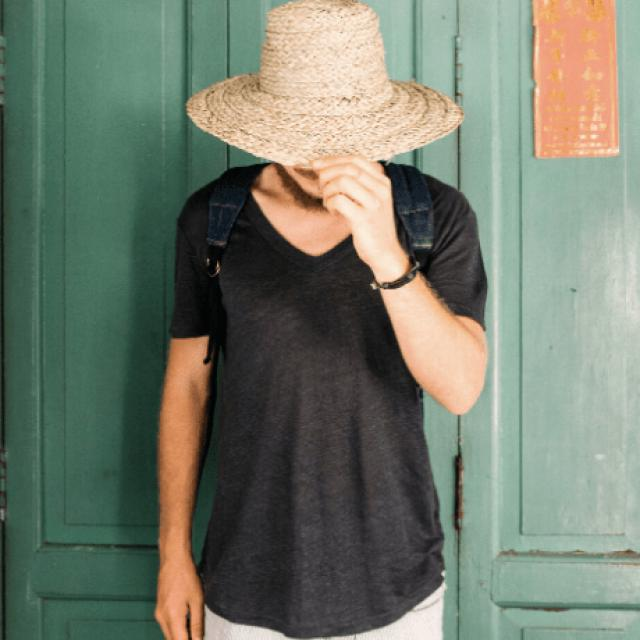hat: (184, 0, 466, 206)
